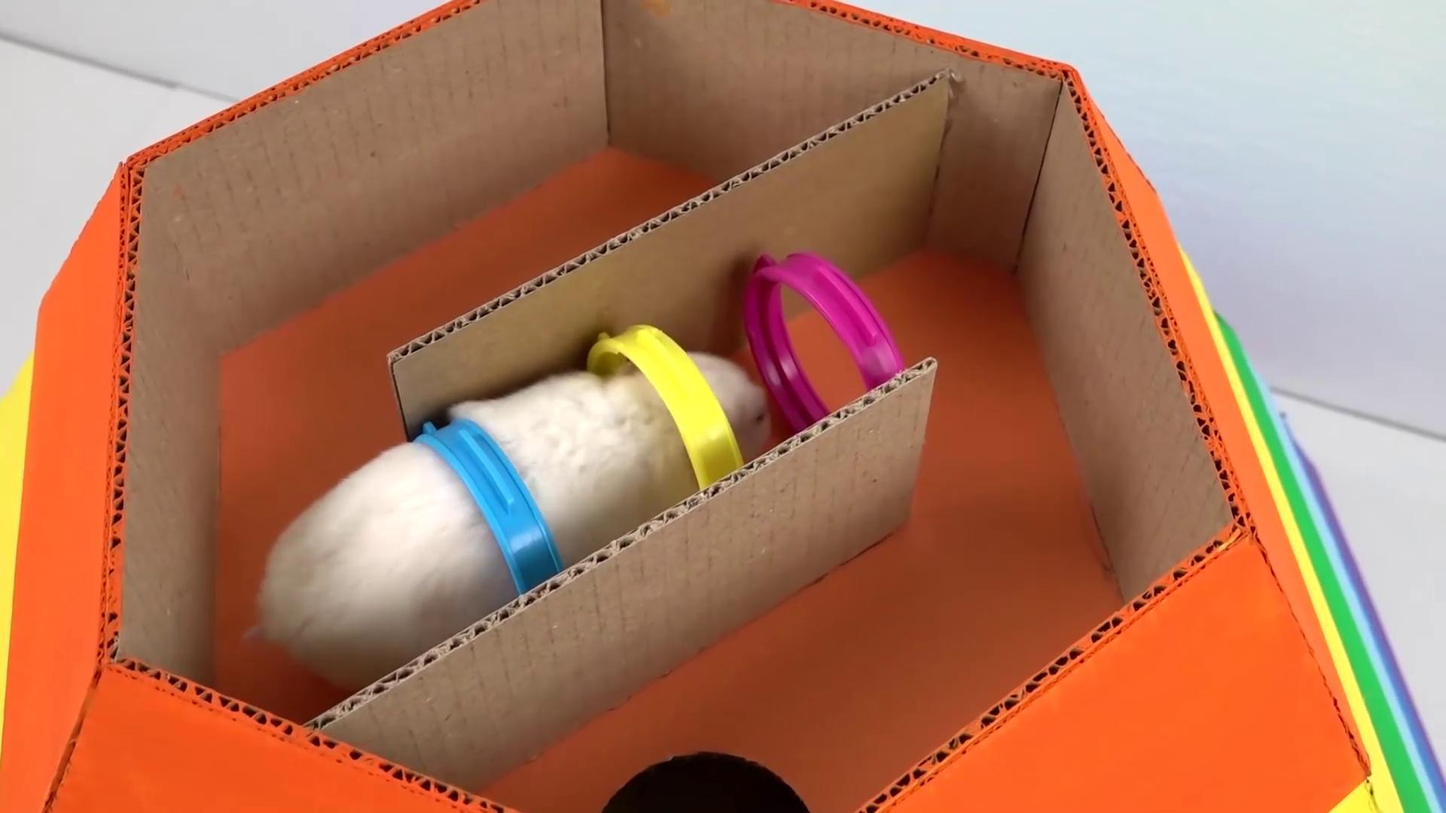rat: (258, 353, 767, 673)
